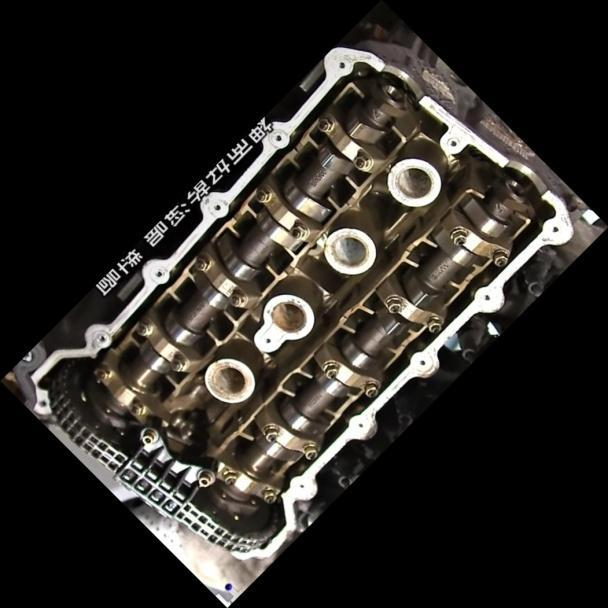hole: (444, 136, 457, 148), (479, 290, 491, 302), (333, 59, 345, 71), (271, 131, 283, 143), (93, 332, 105, 344), (414, 355, 426, 367), (150, 267, 162, 278), (209, 201, 220, 212), (547, 224, 558, 234), (296, 480, 305, 489), (355, 420, 363, 429)
